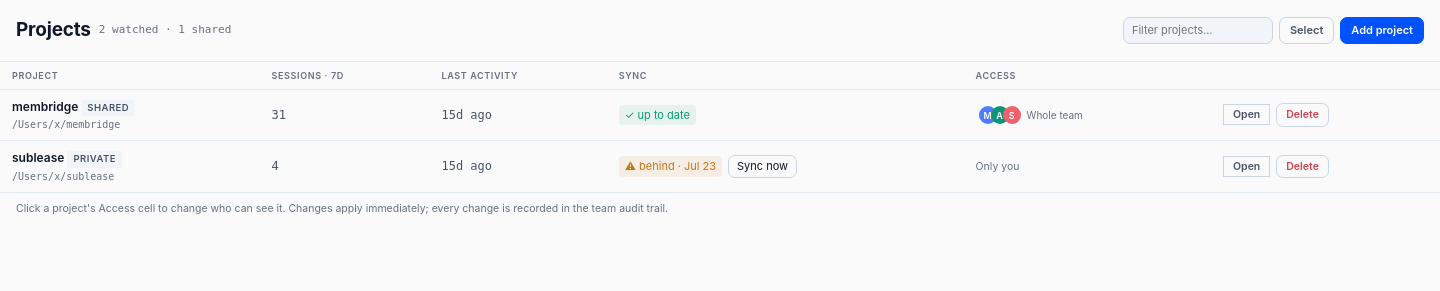
Scenario: ProjectsPage › surfaces a failed project sync instead of looking like nothing happened
Click the button "Sync now" at (763, 166), box [728,155,797,178]
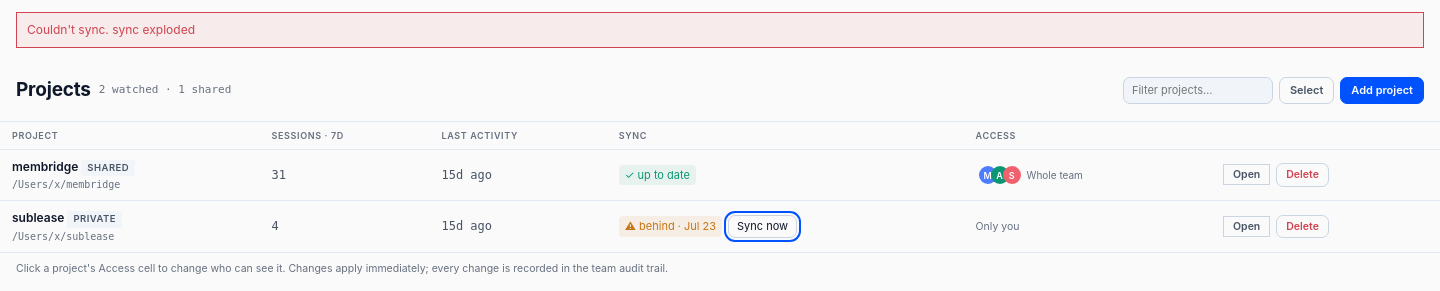
Now the text "Couldn't sync. sync exploded" is shown, box [16,12,1424,48]
